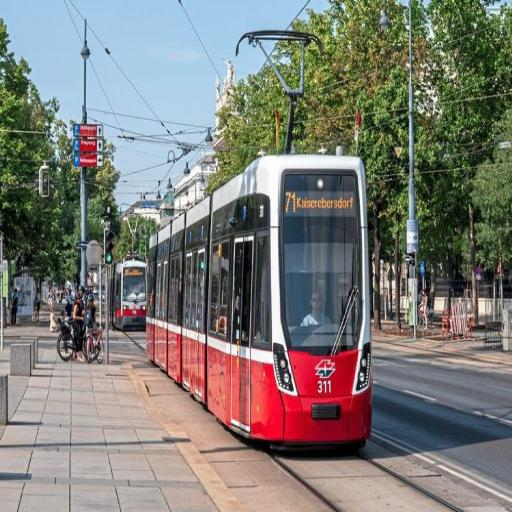Flexity: (144, 145, 374, 436)
